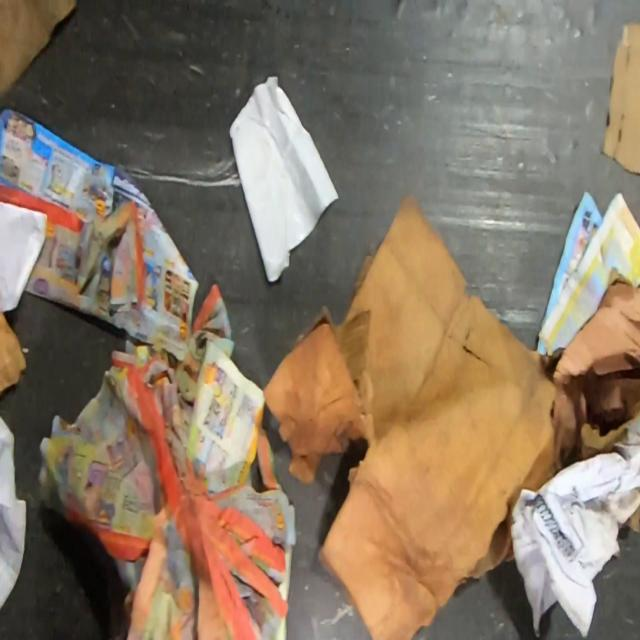cardboard: (262, 189, 640, 640), (0, 0, 78, 100), (599, 20, 640, 176), (0, 311, 27, 398), (626, 505, 640, 532)
